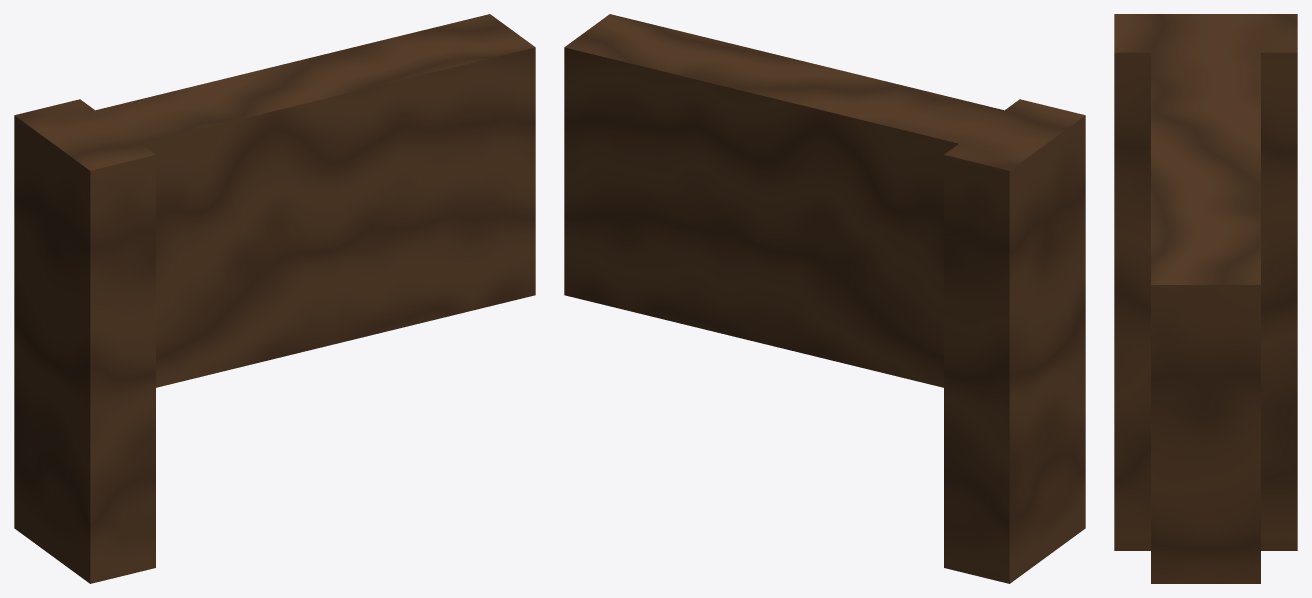
The model's file is fascia_end.glb.
The picture shows the model from 3 angles, left to right: view 1: azimuth 30°, elevation 25°; view 2: azimuth 150°, elevation 25°; view 3: azimuth 270°, elevation 25°; orthographic projection. The views are drawn at different scales.
Visible parts, largest first — view 1: fascia_end; view 2: fascia_end; view 3: fascia_end.
Part boxes in pixels (left/top/right/bottom): fascia_end: left=14, top=14, right=535, bottom=583; fascia_end: left=564, top=14, right=1085, bottom=583; fascia_end: left=1114, top=14, right=1297, bottom=583.
Size of the model in its own units: 0.35 by 0.3 by 0.1.
Materials: 1 (1 with a texture image).
